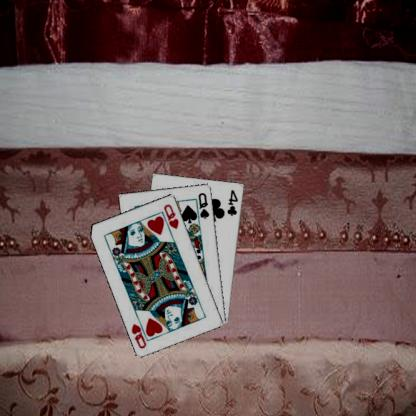4C: (227, 187, 241, 217)
QH: (130, 316, 152, 349), (163, 201, 182, 230)
QS: (198, 190, 212, 220)
